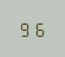nine: (19, 20, 31, 37)
six: (32, 20, 44, 37)
